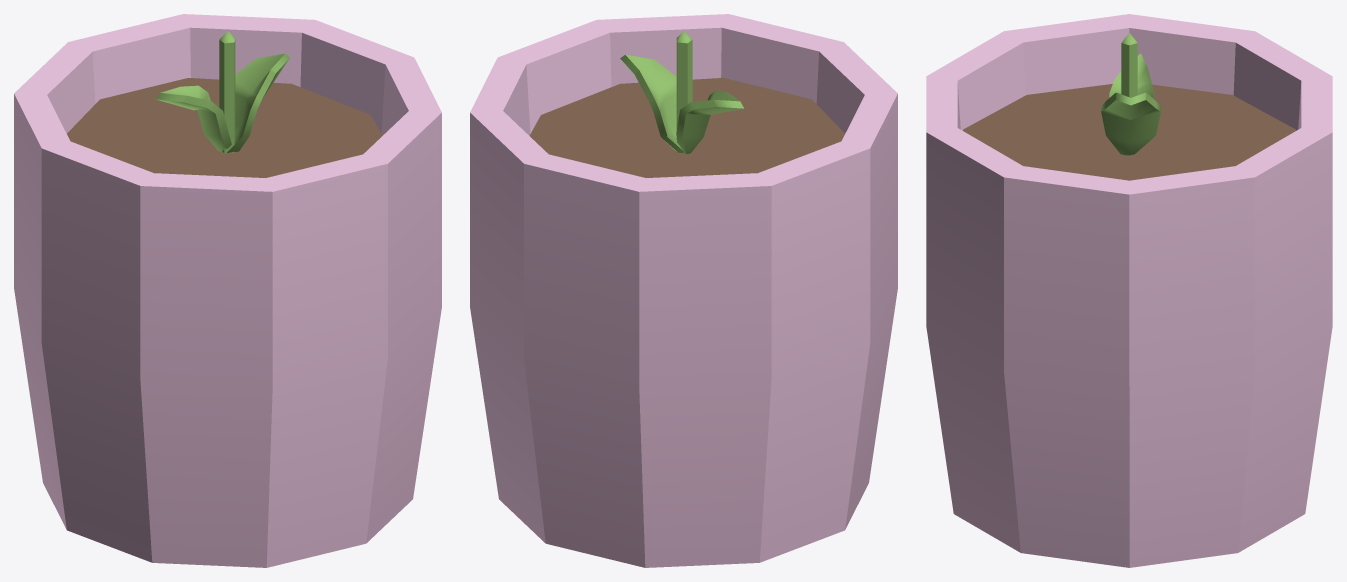
File: plant05_02.gltf
The picture shows the model from 3 angles, left to right: view 1: azimuth 30°, elevation 25°; view 2: azimuth 150°, elevation 25°; view 3: azimuth 270°, elevation 25°; orthographic projection.
Visible parts, largest first — view 1: plant05_stage02:pot, plant05_stage02:dirt, pCube1, pCube3, pCylinder1; view 2: plant05_stage02:pot, plant05_stage02:dirt, pCube1, pCube3, pCylinder1; view 3: plant05_stage02:pot, plant05_stage02:dirt, pCube1, pCylinder1, pCube3.
Part boxes in pixels (x1,y1,x2,y2): plant05_stage02:pot: (14,14,441,567); plant05_stage02:dirt: (67,78,382,177); pCube1: (218,53,289,152); pCube3: (155,85,231,151); pCylinder1: (219,31,235,153); plant05_stage02:pot: (470,14,897,567); plant05_stage02:dirt: (529,78,844,177); pCube1: (620,54,683,152); pCube3: (676,90,743,154); pCylinder1: (676,31,692,129); plant05_stage02:pot: (926,14,1332,567); plant05_stage02:dirt: (963,84,1295,180); pCube1: (1101,92,1160,155); pCylinder1: (1121,33,1137,97); pCube3: (1109,53,1154,98).
Bounding box in the file's own units: 0.0179 × 0.0211 × 0.017.
Materials: 1 (1 with a texture image).
